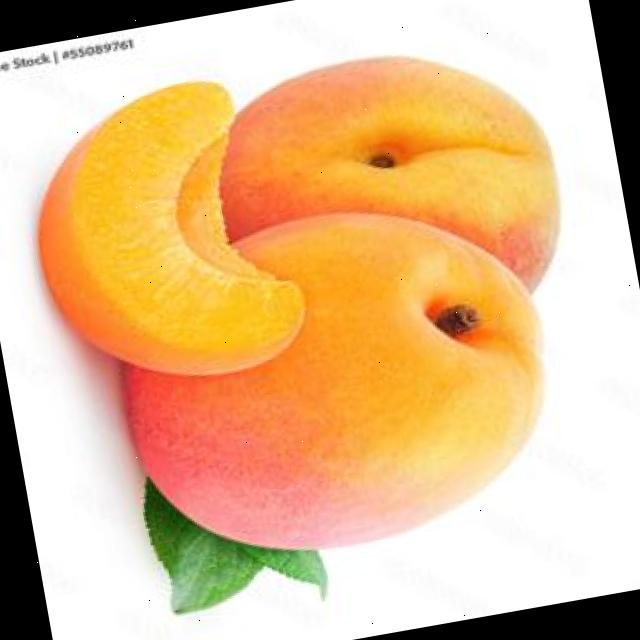peach: (39, 58, 556, 549)
